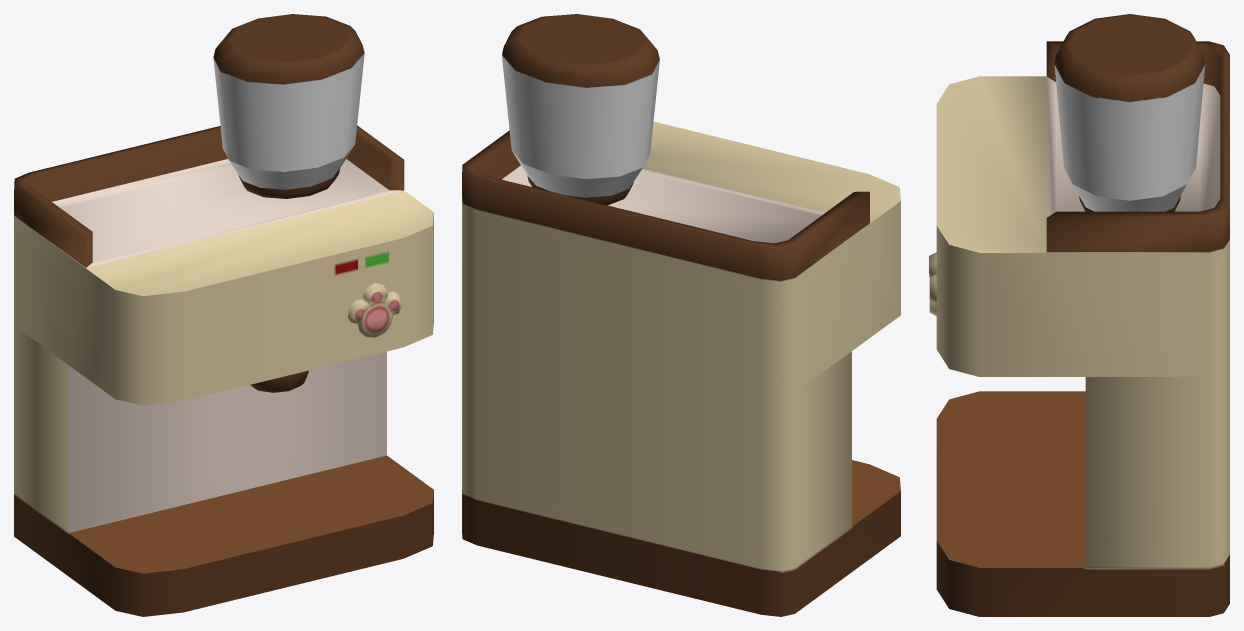
File: coffeemaker.fbx
3 views of the same model, side by side, from view 1: azimuth 30°, elevation 25°; view 2: azimuth 150°, elevation 25°; view 3: azimuth 270°, elevation 25° (orthographic). The views are drawn at different scales.
Visible parts, largest first — view 1: Cube.019; view 2: Cube.019; view 3: Cube.019.
Part boxes in pixels (x1,y1,x2,y2): Cube.019: [14, 14, 433, 616]; Cube.019: [462, 14, 900, 616]; Cube.019: [929, 14, 1229, 616].
Bounding box in the file's own units: 110 × 154 × 79.35.
